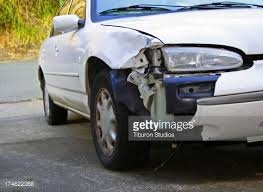Dent: (112, 32, 202, 136)
